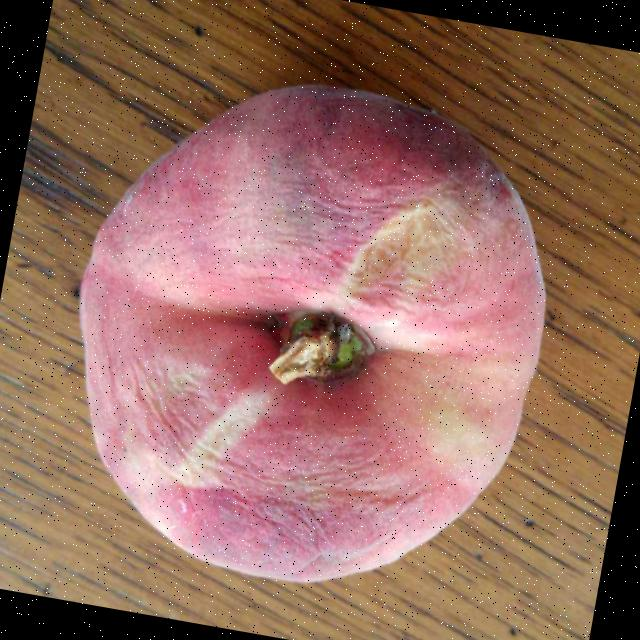peach: (87, 99, 540, 574)
